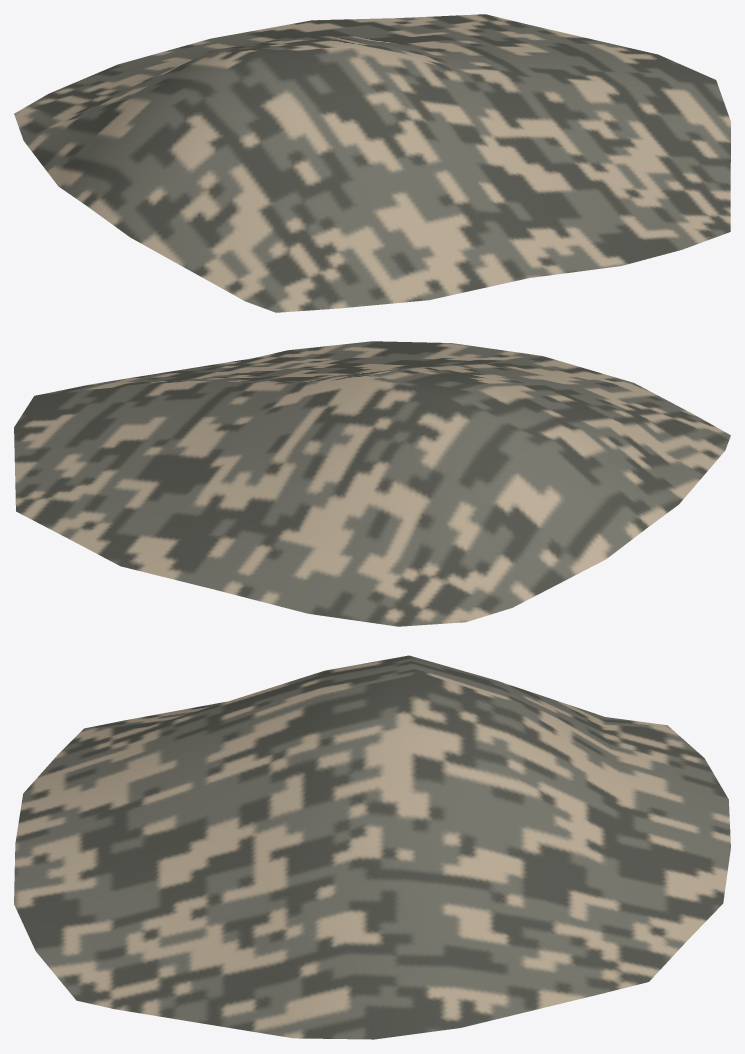
Rendered from SM_Trash_03.fbx.
3 views of the same model, one above another, from view 1: azimuth 30°, elevation 25°; view 2: azimuth 150°, elevation 25°; view 3: azimuth 270°, elevation 25° (orthographic). The views are drawn at different scales.
Parts seen in each view (by area): view 1: SM_Trash_03; view 2: SM_Trash_03; view 3: SM_Trash_03.
Part boxes in pixels (x1,y1,x2,y2): SM_Trash_03: (14,14,730,312); SM_Trash_03: (14,341,730,626); SM_Trash_03: (14,655,730,1039).
Size of the model in its own units: 205 by 185 by 44.64.
1 material, 1 textured.
